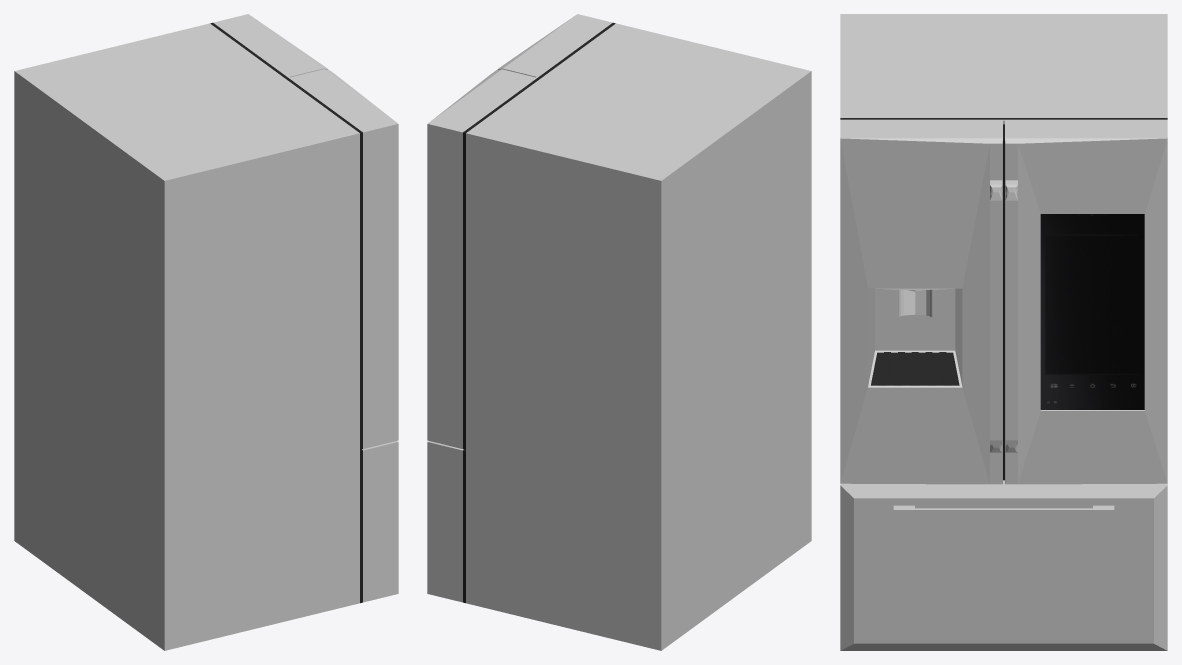
The model's file is fridge.fbx.
3 views of the same model, side by side, from view 1: azimuth 30°, elevation 25°; view 2: azimuth 150°, elevation 25°; view 3: azimuth 270°, elevation 25° (orthographic). The views are drawn at different scales.
Parts seen in each view (by area): view 1: Cube; view 2: Cube; view 3: Cube.
Boxes of the visible parts, box(x1,y1,x2,y2) form: Cube: box(14, 14, 398, 650); Cube: box(427, 14, 811, 650); Cube: box(840, 14, 1167, 650).
Bounding box in the file's own units: 336 × 600 × 347.
